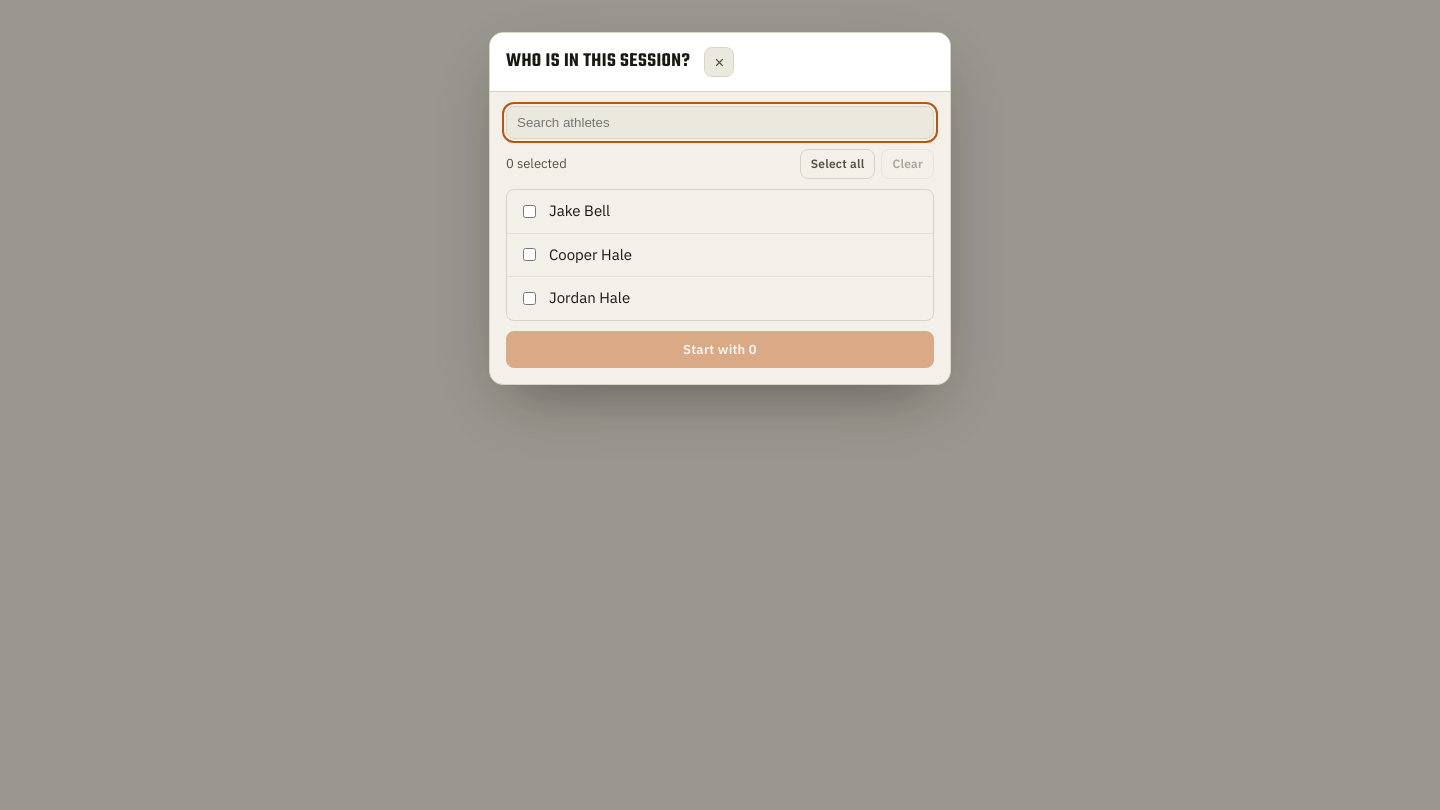
Test: ticking updates the count and enables Start
Click the checkbox labelled "Jake Bell" at [530, 211], box [523,205,536,218]
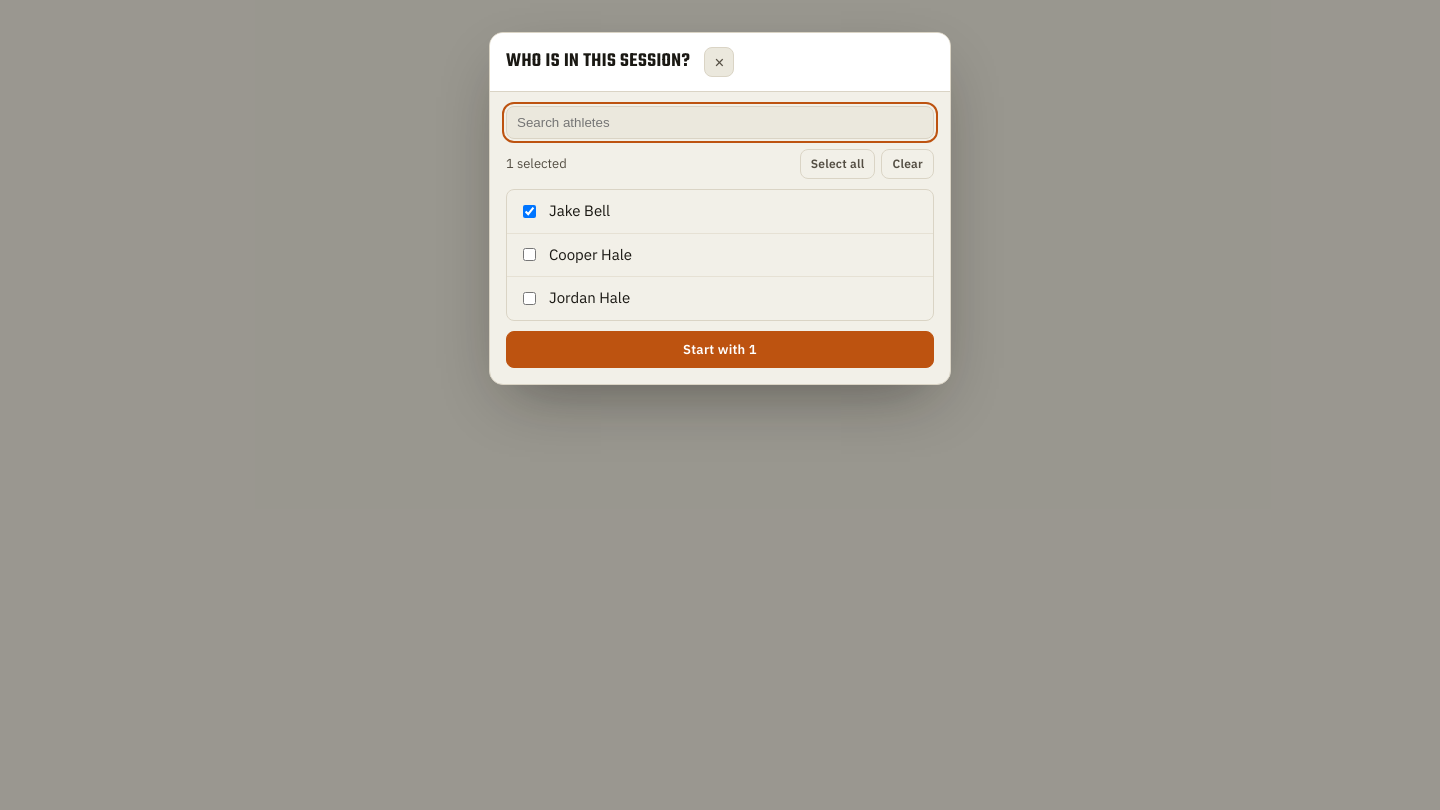
Expected: the button "Start with 1" is shown, [506,330,934,368]
